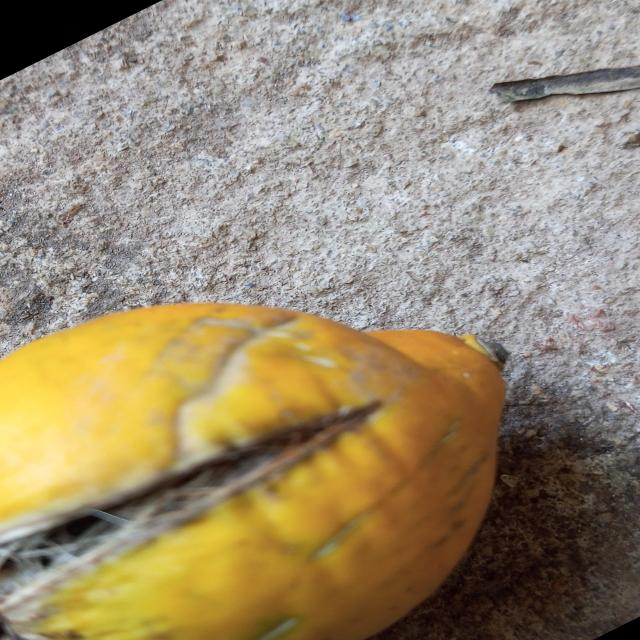damaged: (0, 303, 506, 640)
